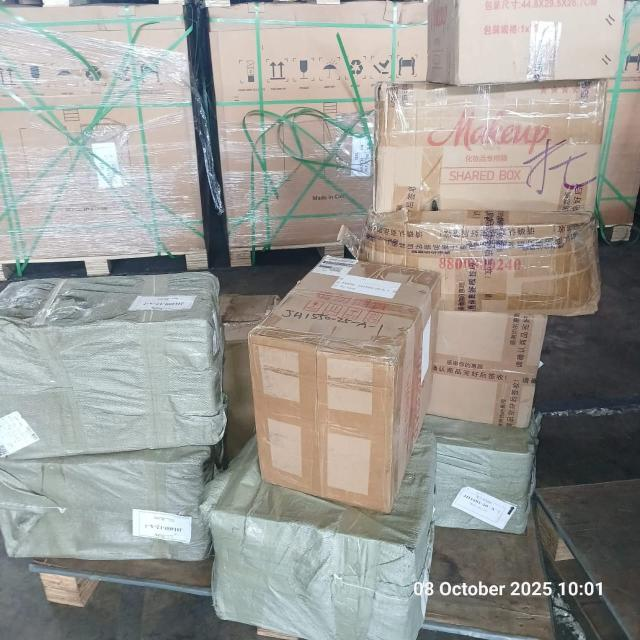carton_box: (371, 73, 623, 323), (204, 5, 435, 272), (240, 248, 452, 515), (0, 0, 218, 259), (424, 0, 627, 101), (426, 291, 568, 427)
export_mark_label: (336, 259, 401, 310)
fragile_label: (291, 45, 319, 90), (25, 53, 50, 94), (299, 288, 326, 318)
keep_dry_label: (0, 51, 30, 92), (50, 53, 77, 94), (324, 53, 341, 85), (345, 299, 363, 329)
protect_from_heat_label: (364, 305, 384, 328)
this_side_up_label: (264, 50, 292, 90), (326, 295, 344, 322)
